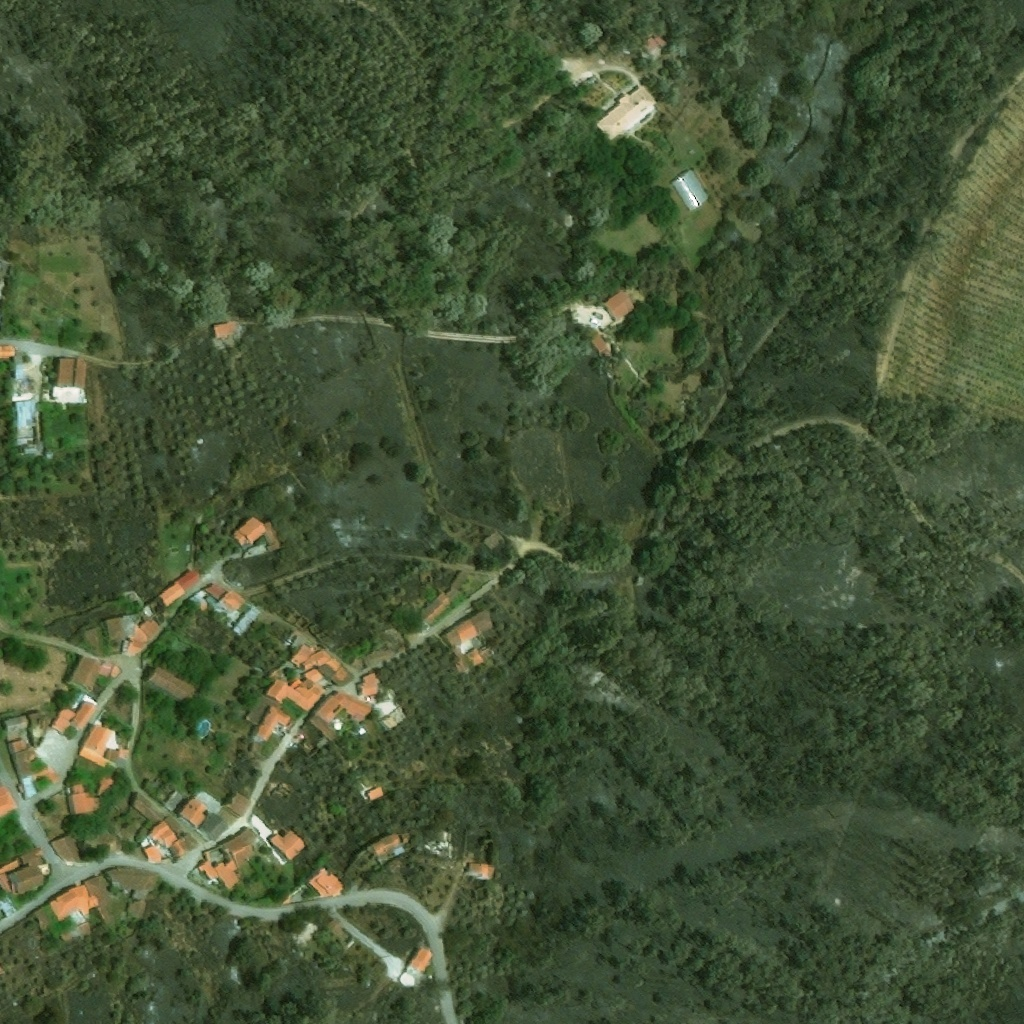0 no-damage: (594, 85, 658, 142), (138, 568, 203, 619), (199, 836, 252, 891), (417, 571, 468, 625), (289, 644, 349, 686), (104, 615, 162, 656), (0, 848, 50, 895), (441, 610, 494, 651), (264, 676, 324, 712), (48, 885, 99, 922), (49, 700, 95, 741), (229, 516, 280, 552), (315, 691, 372, 723), (148, 666, 195, 703), (13, 400, 42, 458), (67, 654, 111, 692), (105, 867, 157, 899), (669, 169, 708, 211), (51, 357, 86, 403), (78, 725, 113, 768), (5, 739, 37, 781), (255, 706, 292, 742), (201, 585, 245, 613), (601, 288, 636, 323), (146, 815, 182, 848), (305, 868, 342, 900), (243, 693, 279, 725), (267, 830, 305, 860), (67, 784, 100, 815), (231, 604, 261, 637), (176, 797, 208, 827), (402, 947, 431, 979), (83, 874, 112, 906), (48, 835, 80, 863), (199, 812, 229, 841), (376, 707, 407, 735), (308, 712, 337, 741), (59, 919, 92, 944), (167, 834, 198, 859), (2, 715, 28, 742), (641, 33, 667, 57), (226, 792, 250, 816), (359, 671, 380, 697), (0, 785, 16, 818), (213, 321, 240, 339), (83, 627, 103, 650), (33, 905, 50, 931), (467, 863, 493, 880), (12, 348, 26, 379), (464, 647, 483, 667), (96, 777, 113, 798), (142, 845, 161, 863), (303, 667, 325, 682), (103, 749, 128, 762), (365, 786, 384, 802), (127, 902, 142, 917), (0, 345, 14, 358), (355, 726, 366, 737), (339, 720, 348, 729)
2 major-damage: (368, 832, 411, 860)
3 destroyed: (430, 835, 451, 858), (567, 215, 586, 240), (283, 612, 308, 631), (272, 783, 293, 803), (276, 759, 293, 773)
